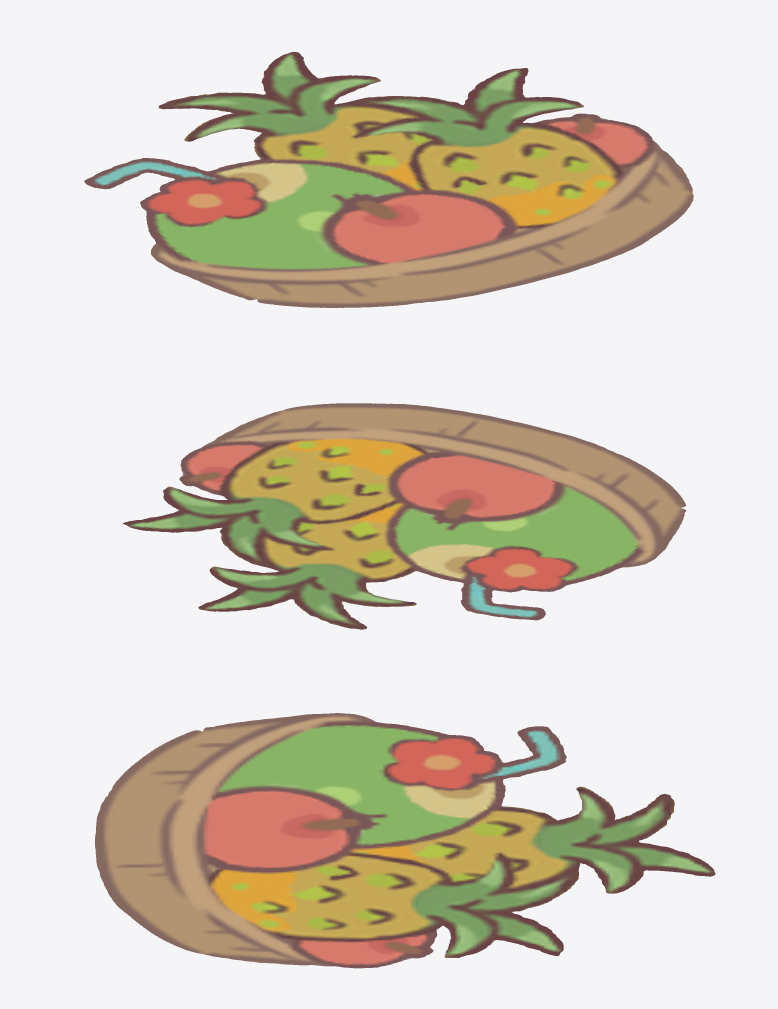
Rendered from Mesh_Activity_Pachinko_02_Item_02.fbx.
3 views of the same model, one above another, from view 1: azimuth 30°, elevation 25°; view 2: azimuth 150°, elevation 25°; view 3: azimuth 270°, elevation 25° (orthographic). The views are drawn at different scales.
Visible parts, largest first — view 1: Mesh_Activity_Pachinko_02_Item_02; view 2: Mesh_Activity_Pachinko_02_Item_02; view 3: Mesh_Activity_Pachinko_02_Item_02.
Boxes of the visible parts, bbox=[...] form: Mesh_Activity_Pachinko_02_Item_02: bbox=[84, 51, 693, 307]; Mesh_Activity_Pachinko_02_Item_02: bbox=[123, 403, 686, 629]; Mesh_Activity_Pachinko_02_Item_02: bbox=[95, 713, 715, 968].
Bounding box in the file's own units: 37.03 × 6.1e-15 × 38.3.
